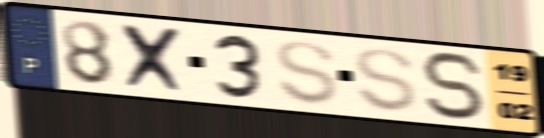3: (211, 32, 263, 101)
8: (58, 18, 116, 87)
S: (417, 49, 491, 123), (352, 45, 421, 115), (273, 38, 342, 108)
X: (117, 20, 192, 97)
